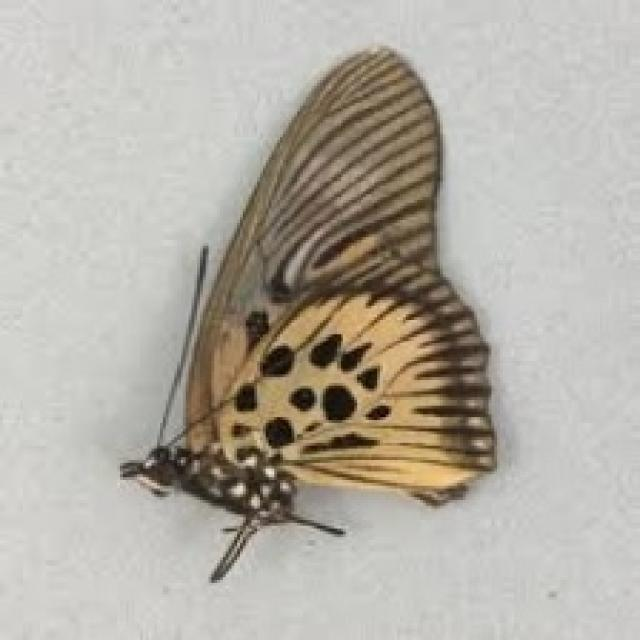butterfly: (117, 43, 497, 583)
